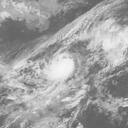cyclone: (41, 54, 76, 84)
